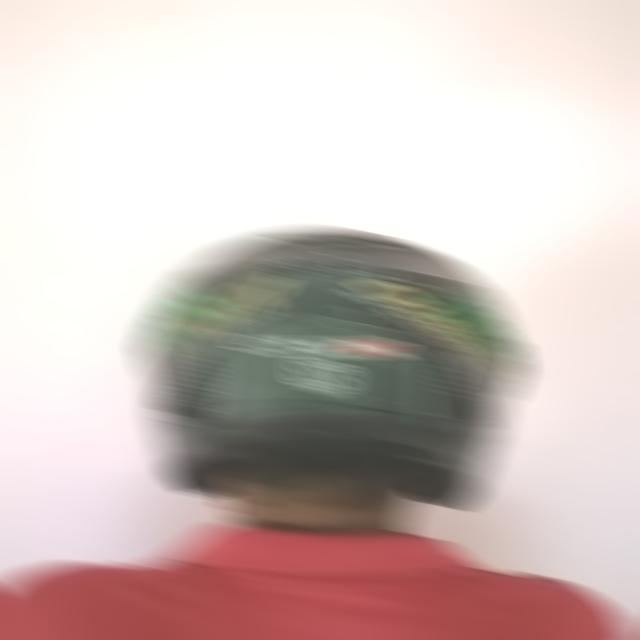With Helmet: (136, 225, 525, 514)
